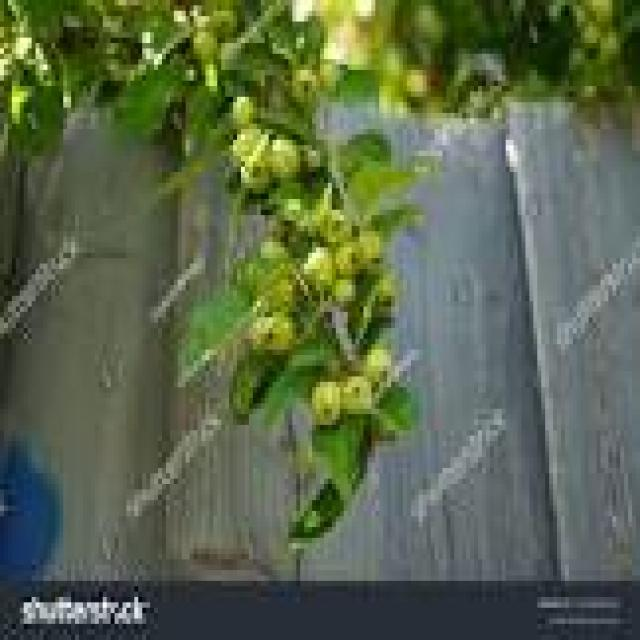Unripe: (310, 382, 340, 433)
